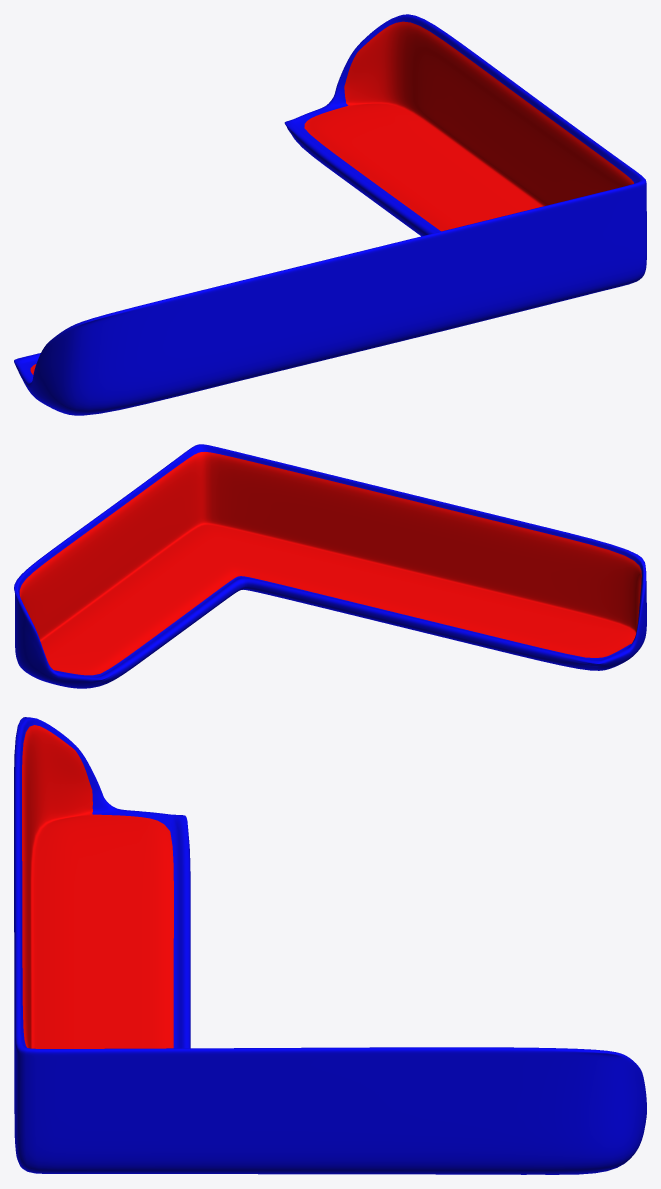
The model's file is couch-left-high.fbx.
The picture shows the model from 3 angles, top to bottom: view 1: azimuth 30°, elevation 25°; view 2: azimuth 150°, elevation 25°; view 3: azimuth 270°, elevation 25°; orthographic projection. The views are drawn at different scales.
Visible parts, largest first — view 1: couch Highpoly; view 2: couch Highpoly; view 3: couch Highpoly.
Part boxes in pixels (x1,y1,x2,y2): couch Highpoly: (14, 14, 646, 415); couch Highpoly: (14, 444, 646, 688); couch Highpoly: (14, 717, 646, 1174).
Size of the model in its own units: 447 by 84.38 by 335.
